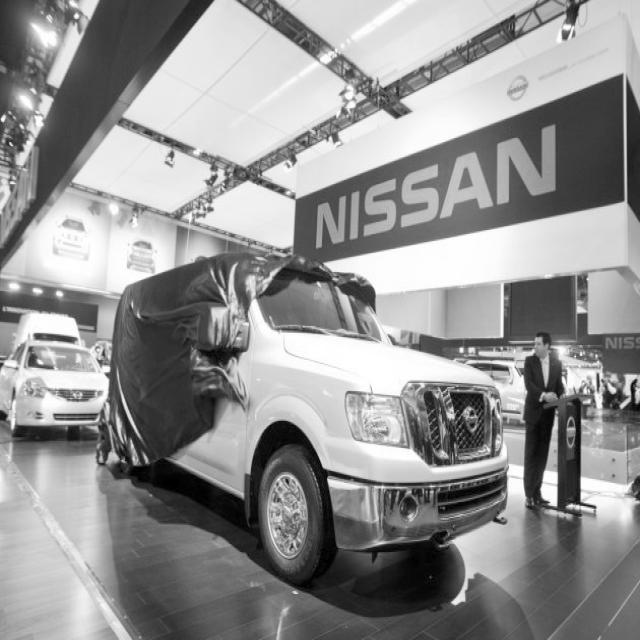car: (108, 253, 508, 589), (0, 338, 109, 438), (52, 216, 90, 260)
